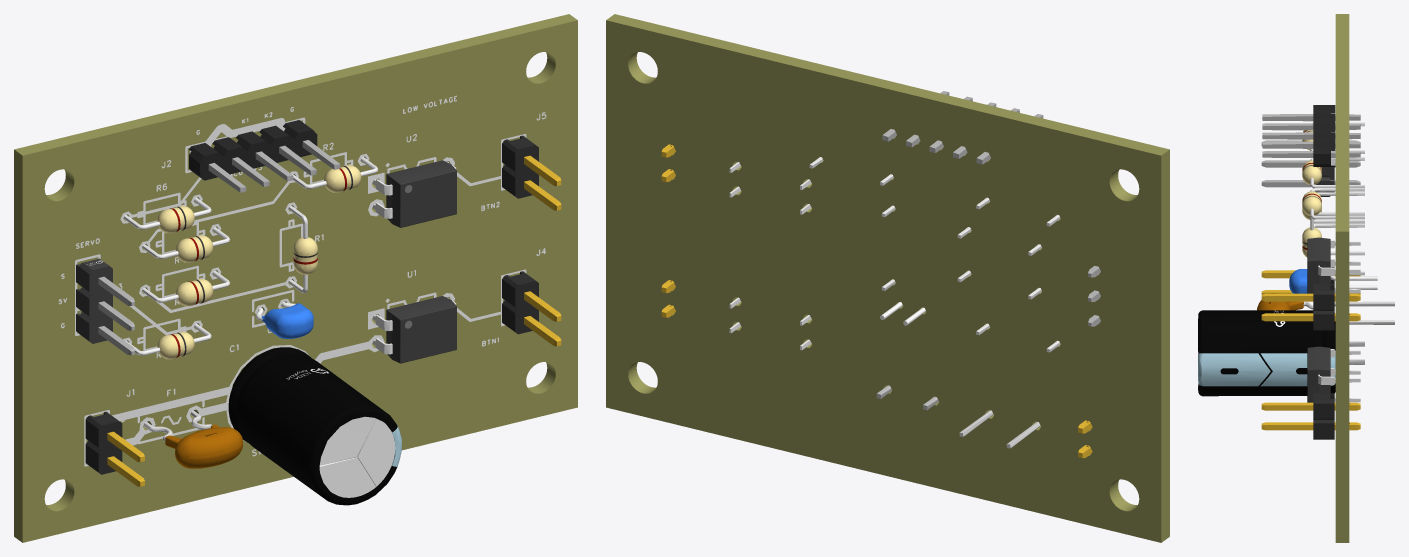
Rendered from carrier_v04_populated.obj.
3 views of the same model, side by side, from view 1: azimuth 30°, elevation 25°; view 2: azimuth 150°, elevation 25°; view 3: azimuth 270°, elevation 25° (orthographic). The views are drawn at different scales.
Bounding box in the file's own units: 59.97 × 39.97 × 22.91.
